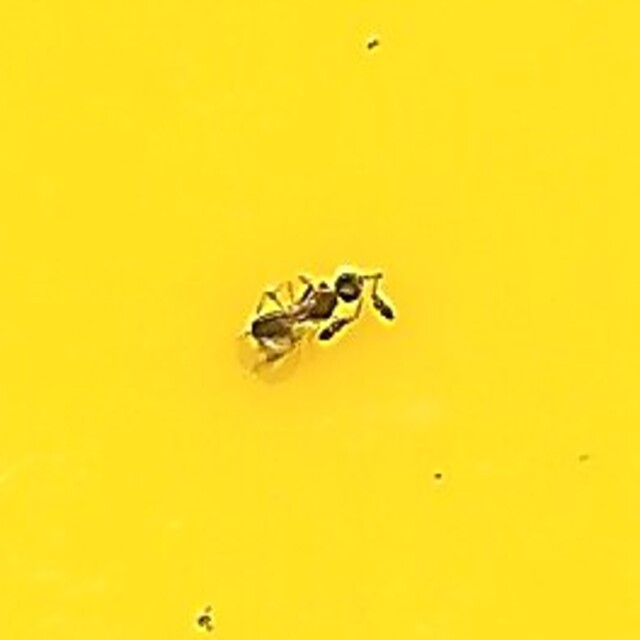Hymenoptera: (242, 268, 398, 372)
